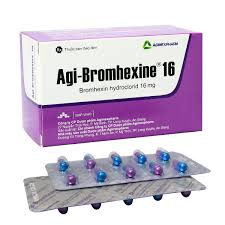Bromhexin: (80, 63, 157, 82)
